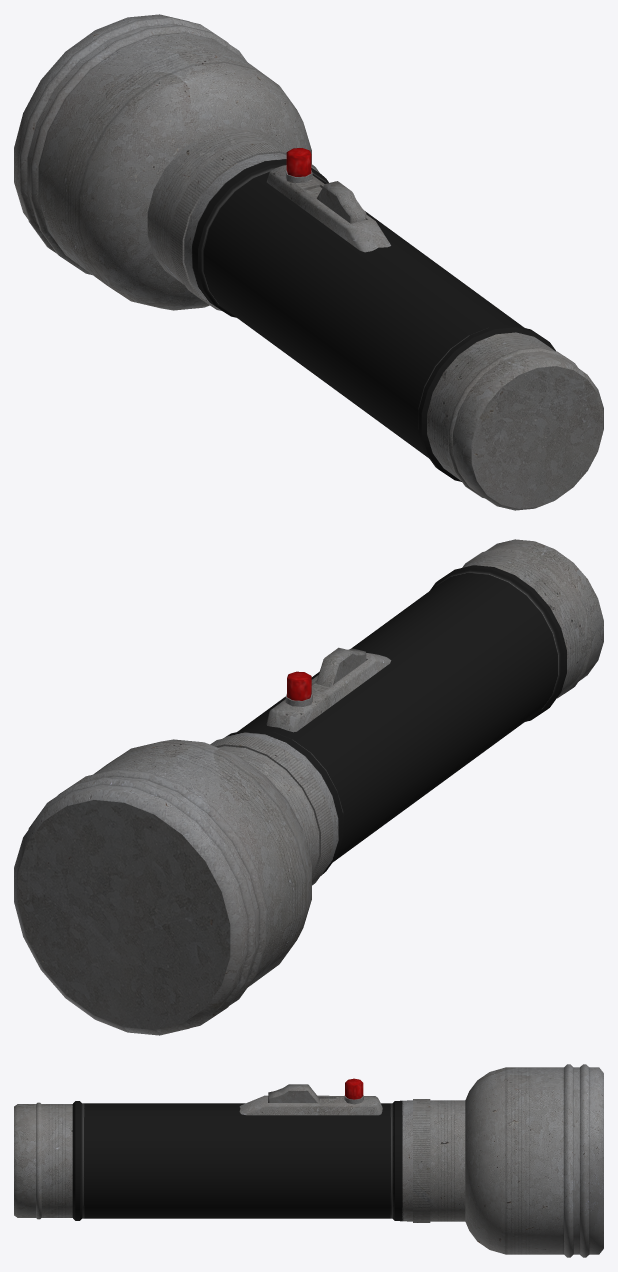
Rendered from PA_005_kaityuudenntou_01_05.fbx.
3 views of the same model, one above another, from view 1: azimuth 30°, elevation 25°; view 2: azimuth 150°, elevation 25°; view 3: azimuth 270°, elevation 25° (orthographic). The views are drawn at different scales.
Parts seen in each view (by area): view 1: Line001; view 2: Line001; view 3: Line001.
Part boxes in pixels (bbox=[...]): Line001: bbox=[14, 14, 603, 510]; Line001: bbox=[14, 539, 603, 1035]; Line001: bbox=[14, 1064, 603, 1257].
Size of the model in its own units: 2.41 by 2.43 by 7.36.
